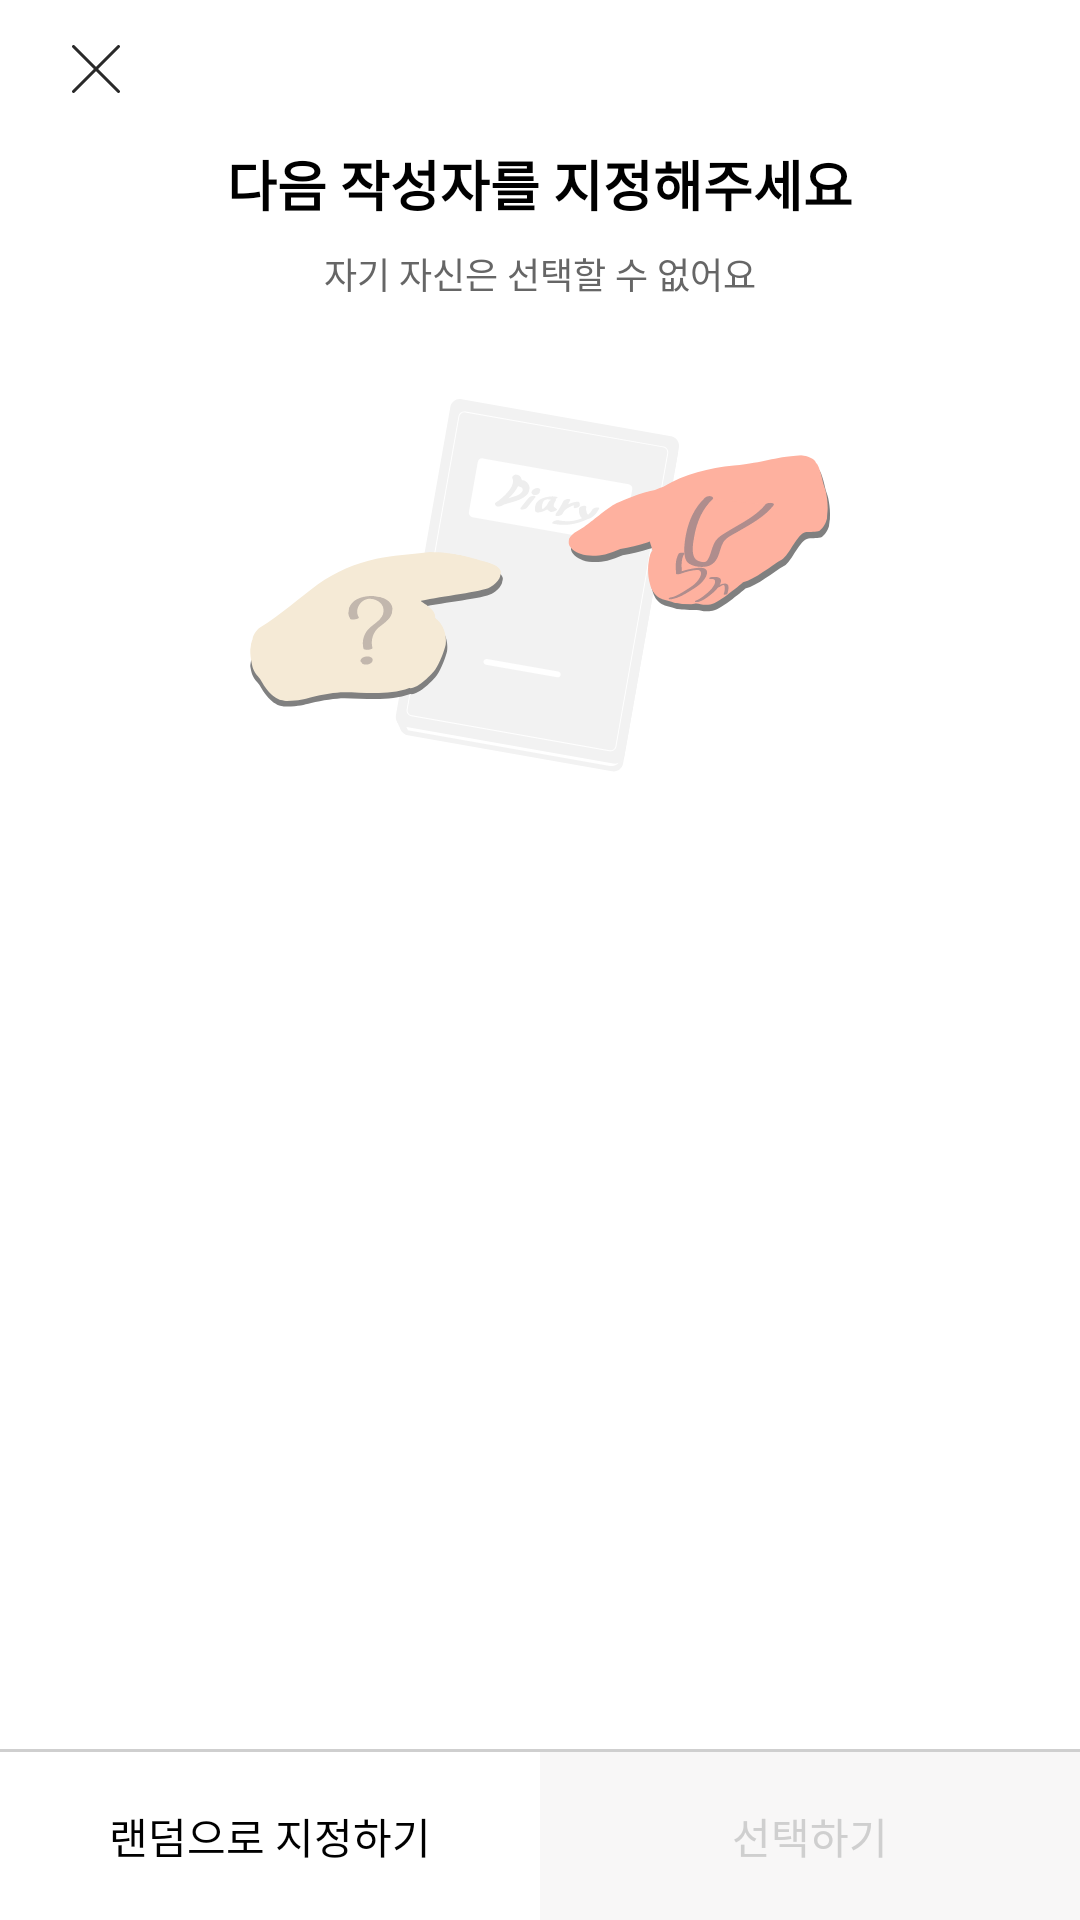

Icon bounding boxes for this 1080 × 1920 phone screenshot, format (x1, y1, x2, y2):
cancel: (72, 45, 120, 93)
